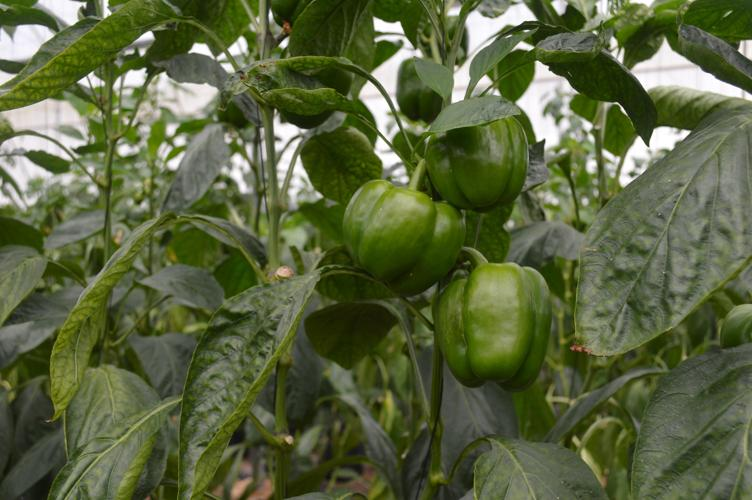BellPepper: (419, 261, 550, 390), (332, 182, 469, 292), (428, 104, 527, 210), (390, 56, 453, 123)
